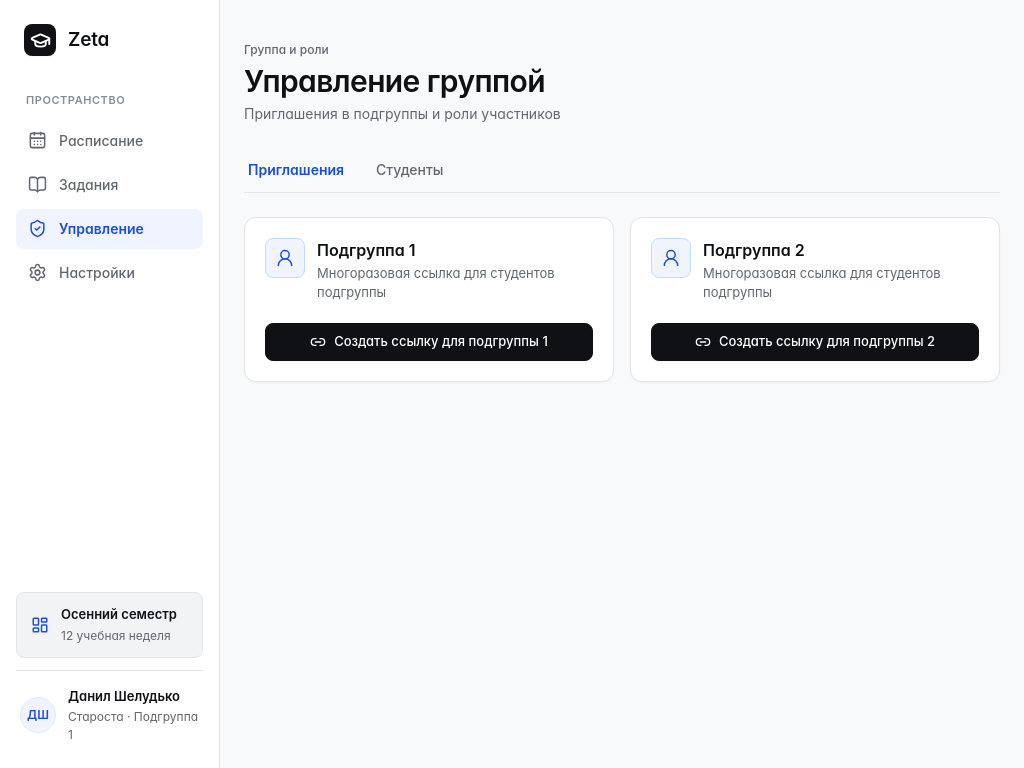
AdminPage › allows promoting a student to helper
Expected: the button "Создать ссылку для подгруппы 1" is shown, [265, 322, 593, 360]
Click the tab "Студенты" at {"x": 410, "y": 170}, box [372, 148, 447, 192]
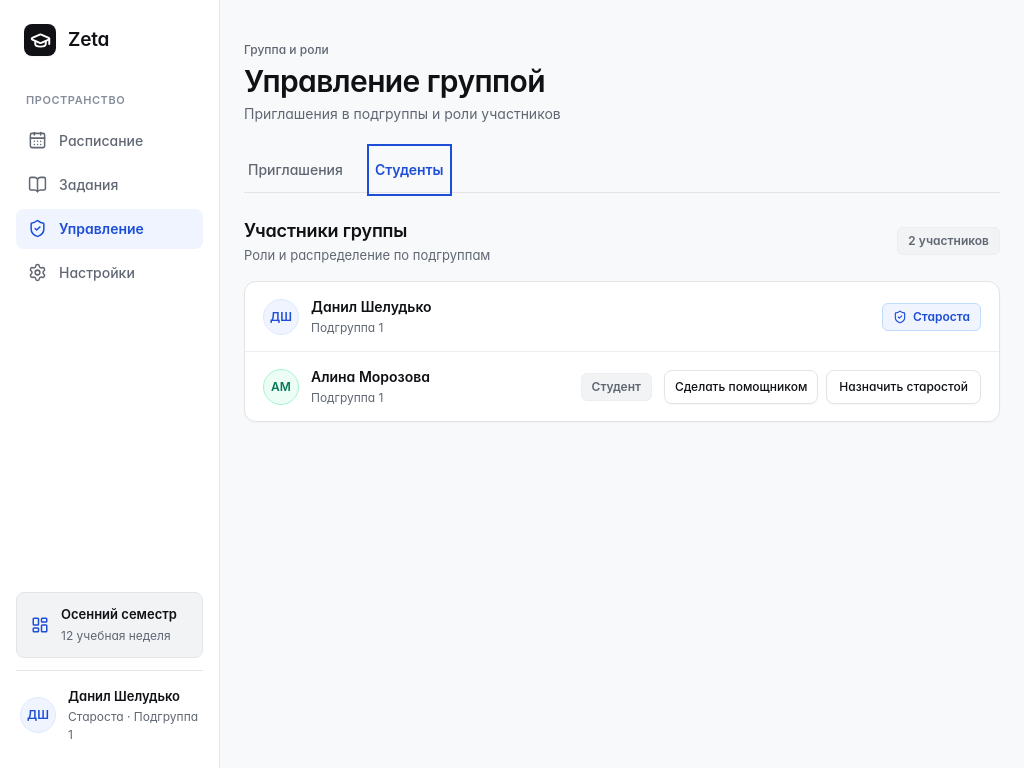
Click the button with aria-label "Сделать помощником: Алина Морозова" at {"x": 741, "y": 386}, box [664, 370, 818, 404]
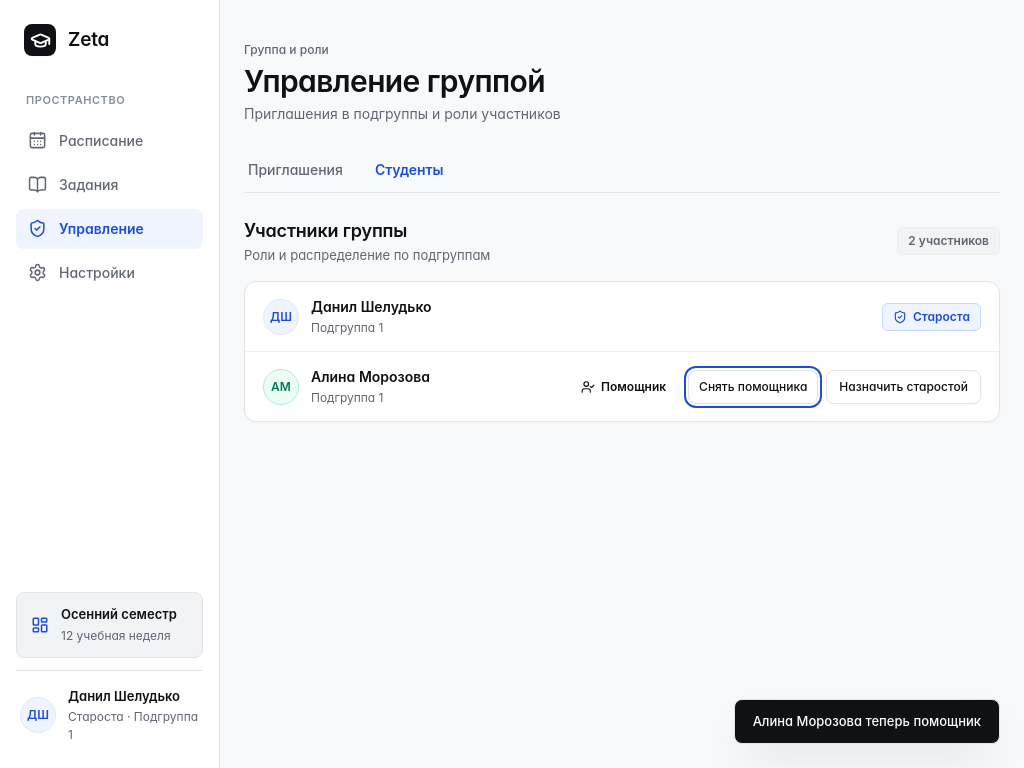
Expected: the message reads "Алина Морозова теперь помощник", [753, 712, 981, 728]
